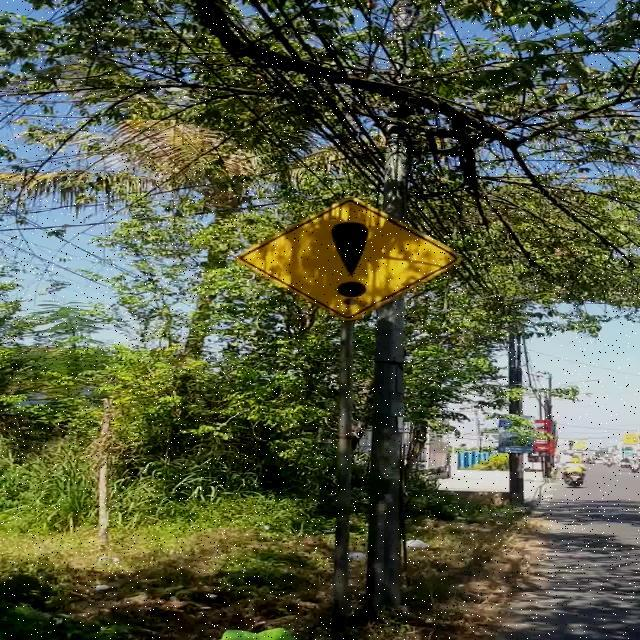Hati-Hati: (236, 198, 462, 320)
